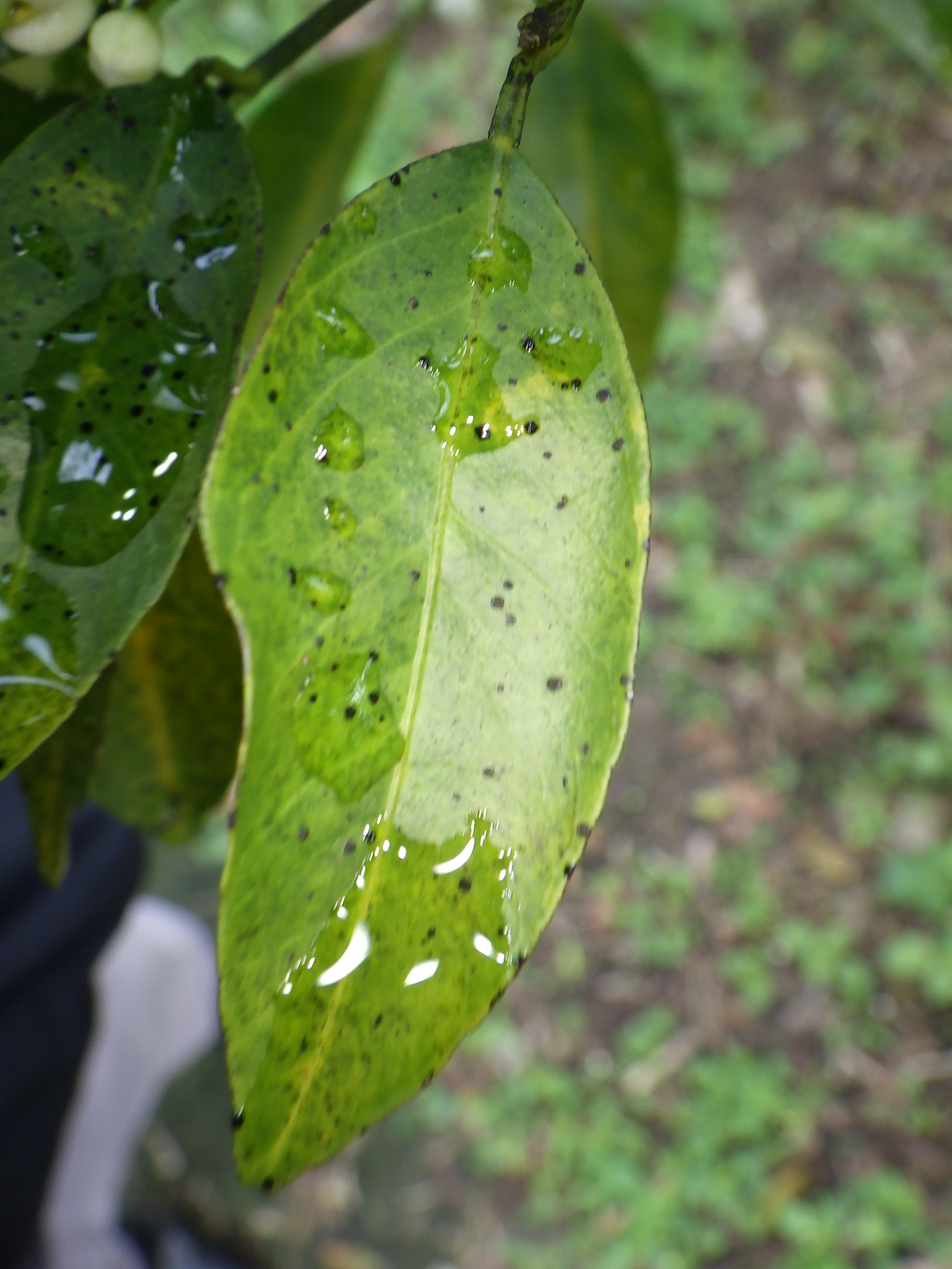Oily_Spot: (204, 116, 650, 1188)
